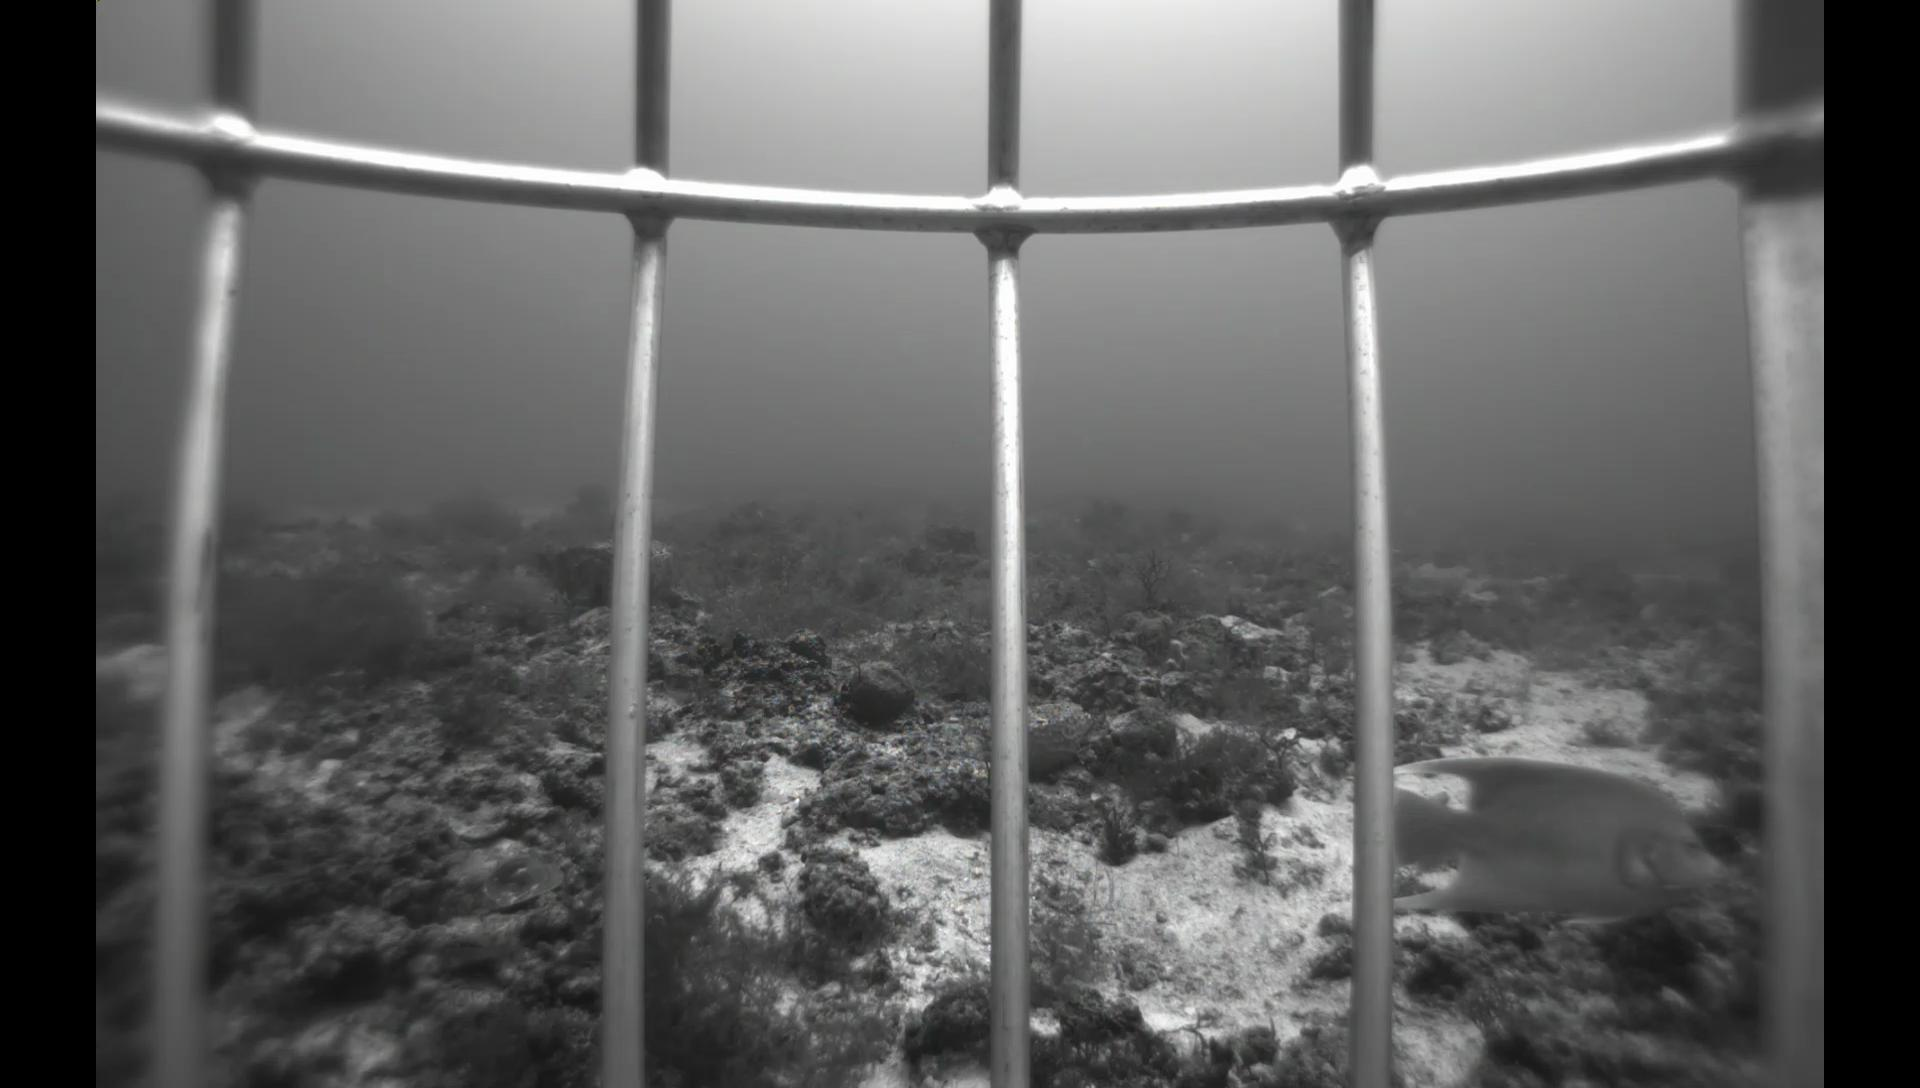HOLACANTHUSBERMUDENSIS-170290102: (1341, 746, 1731, 936)
SERRANUSANNULARIS-170024201: (415, 930, 524, 971)
